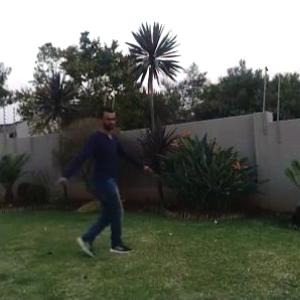land: (45, 92, 158, 278)
